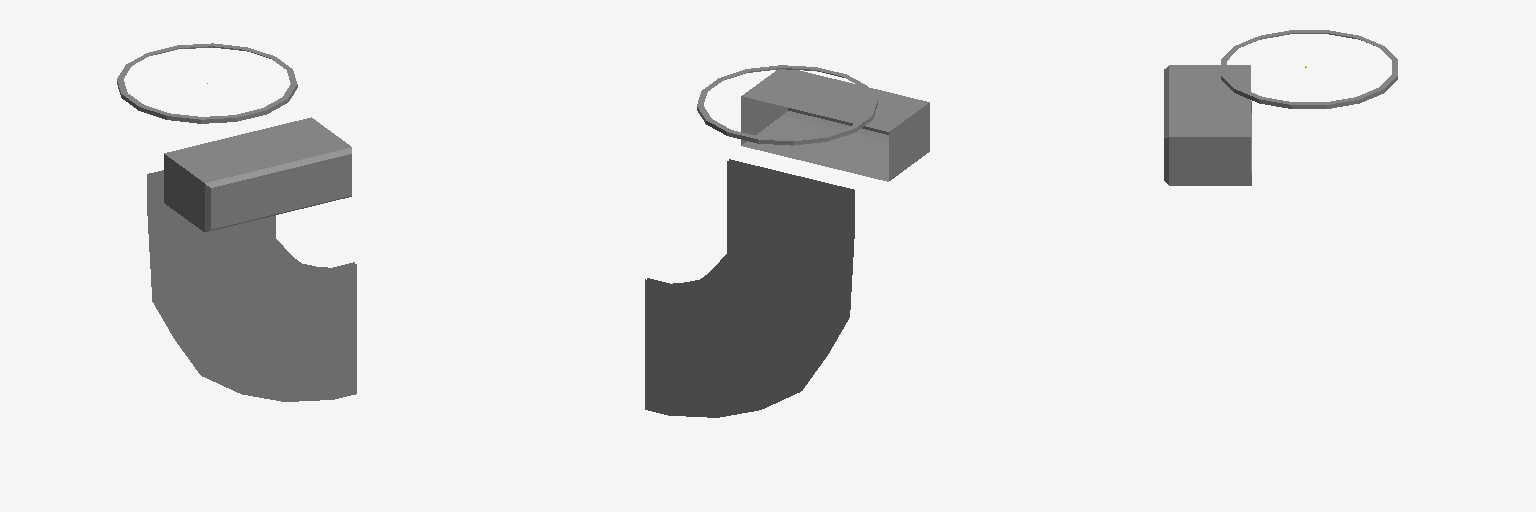
File: cpz_obj_pipemarkR.obj
The picture shows the model from 3 angles: view 1: azimuth 30°, elevation 25°; view 2: azimuth 150°, elevation 25°; view 3: azimuth 270°, elevation 25°; orthographic projection.
Visible parts, largest first — view 1: cpz_obj_watershadow, ccp_metal_yy_metal_Cmn_dpn, cpz_obj_etc_tn1_towerlight_001, ccp_etc_yy_light01_IgnoL_d; view 2: cpz_obj_airball, ccp_metal_yy_metal_Cmn_dpn, cpz_obj_etc_tn1_towerlight_001, cpz_obj_watershadow; view 3: ccp_metal_yy_metal_Cmn_dpn, cpz_obj_etc_tn1_towerlight_001.
Part boxes in pixels (x1,y1,x2,y2): cpz_obj_watershadow: (149, 172, 356, 401); ccp_metal_yy_metal_Cmn_dpn: (164, 117, 351, 231); cpz_obj_etc_tn1_towerlight_001: (117, 43, 340, 220); ccp_etc_yy_light01_IgnoL_d: (215, 159, 347, 224); cpz_obj_airball: (645, 161, 852, 417); ccp_metal_yy_metal_Cmn_dpn: (741, 69, 929, 181); cpz_obj_etc_tn1_towerlight_001: (697, 65, 877, 145); cpz_obj_watershadow: (647, 159, 854, 390); ccp_metal_yy_metal_Cmn_dpn: (1164, 65, 1251, 185); cpz_obj_etc_tn1_towerlight_001: (1221, 30, 1397, 108).
Size of the model in its own units: 67.53 by 100 by 62.46.